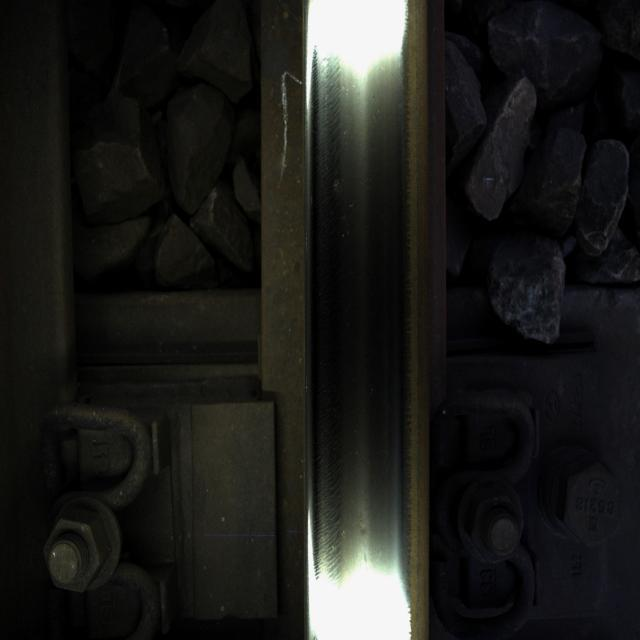break: (314, 34, 406, 598)
